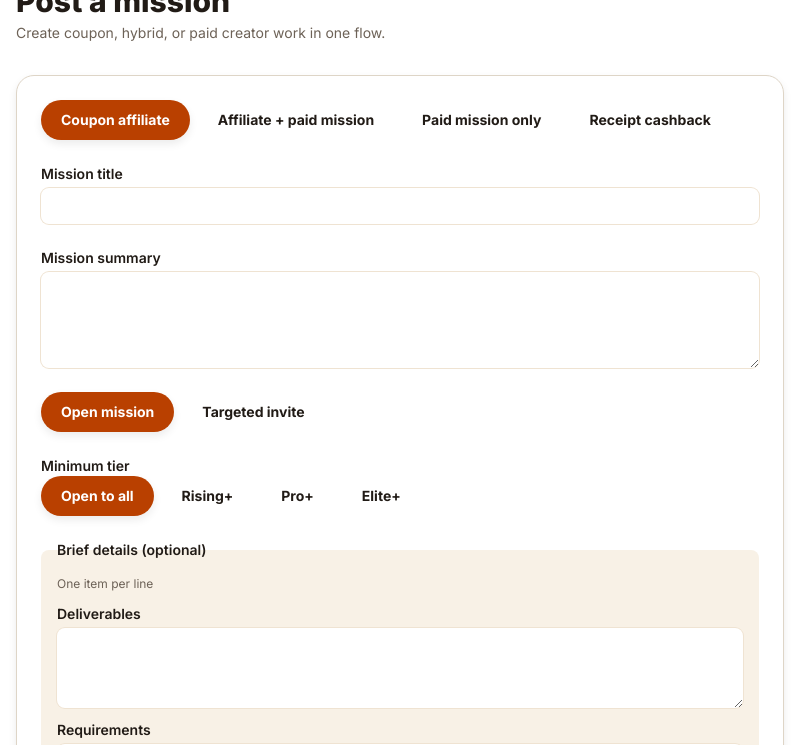
MissionPostWizard › blocks a receipt_cashback draft with no per-receipt amount
Click the radio button labelled "Receipt cashback".
click(650, 120)  # box top-left (589, 111), bottom-right (711, 128)
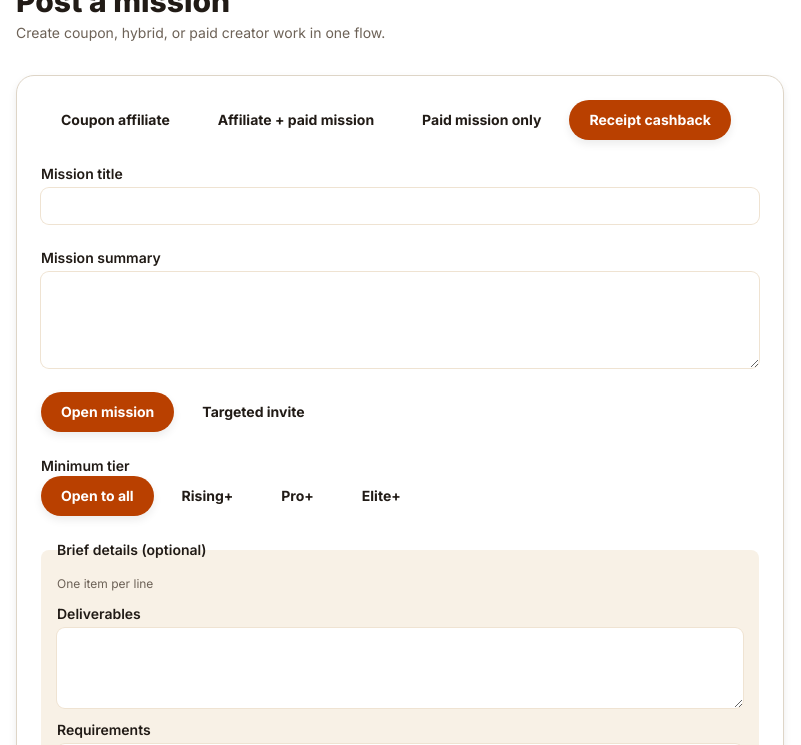
Type "Cafe receipt cashback" into the field labelled "Mission title".
click(400, 206); type("Cafe receipt cashback")  # box top-left (41, 188), bottom-right (759, 224)
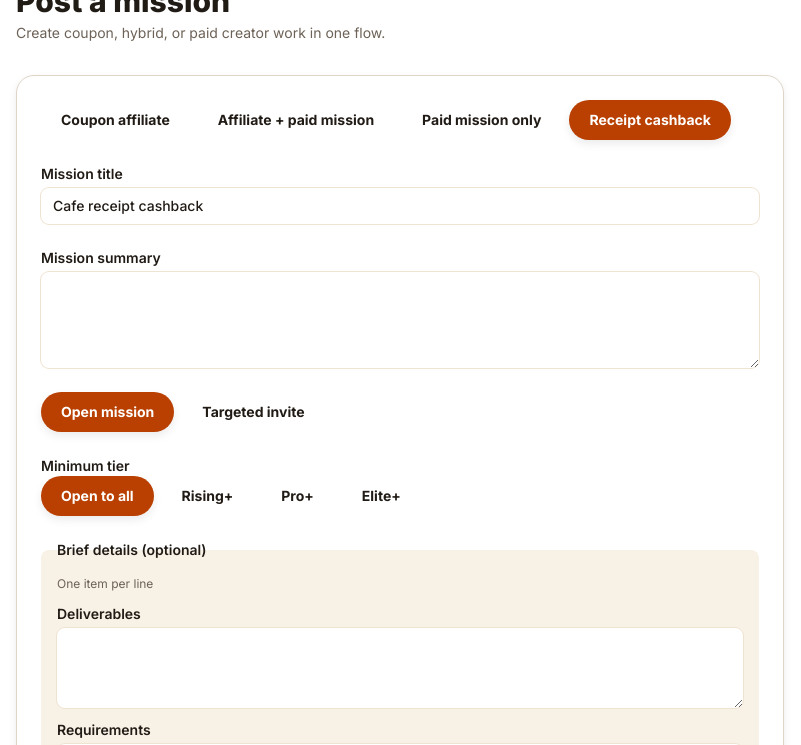
Type "Get cashback for every receipt." into the text box labelled "Mission summary".
click(400, 320); type("Get cashback for every receipt.")  # box top-left (41, 272), bottom-right (759, 368)
(page scrolled)
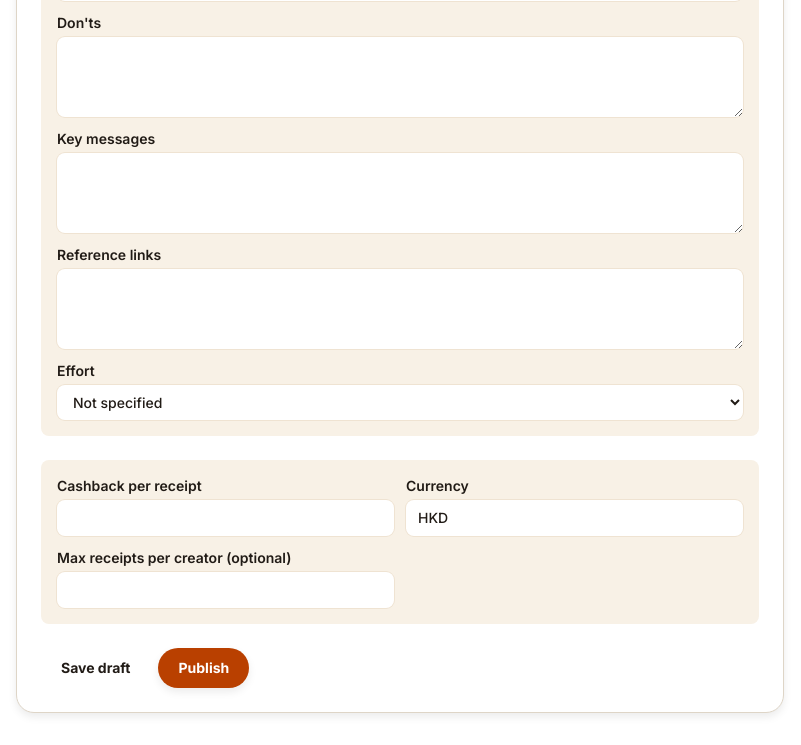
Click the button "Save draft".
click(96, 668)  # box top-left (41, 648), bottom-right (150, 688)
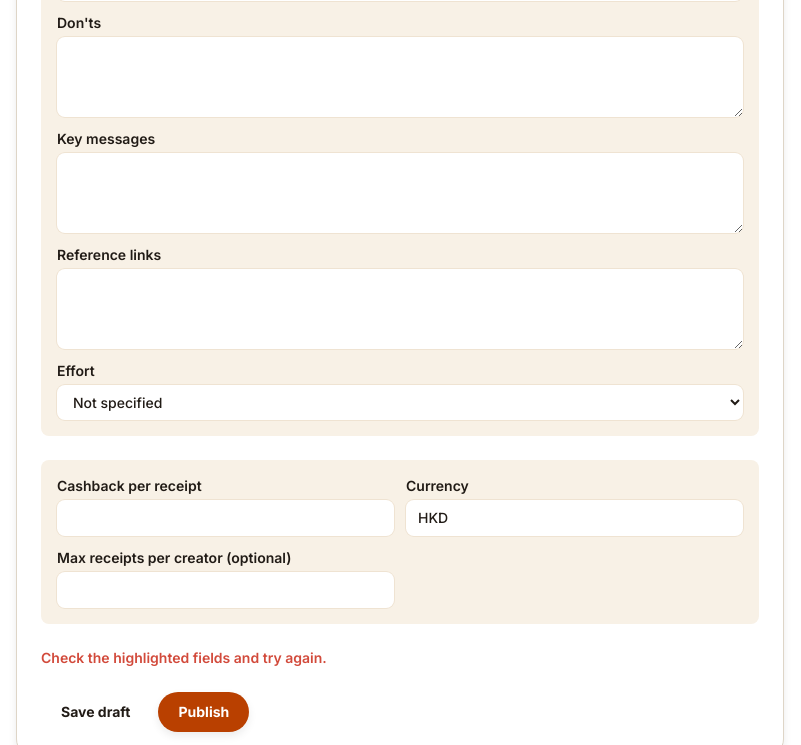
Expected: the message reads "Check the highlighted fields and try again.", top-left (41, 649), bottom-right (327, 666)
